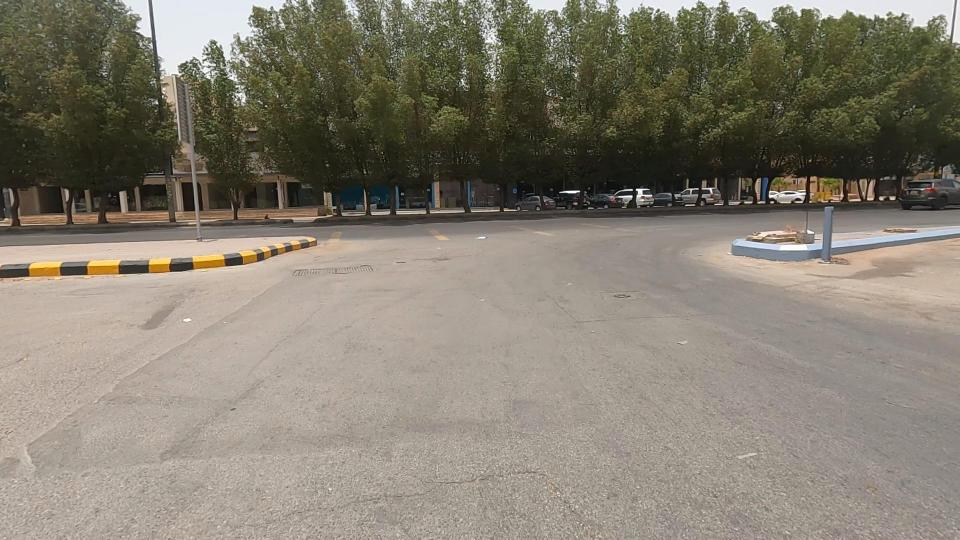GARBAGE: (704, 193, 818, 274), (454, 212, 507, 260)
